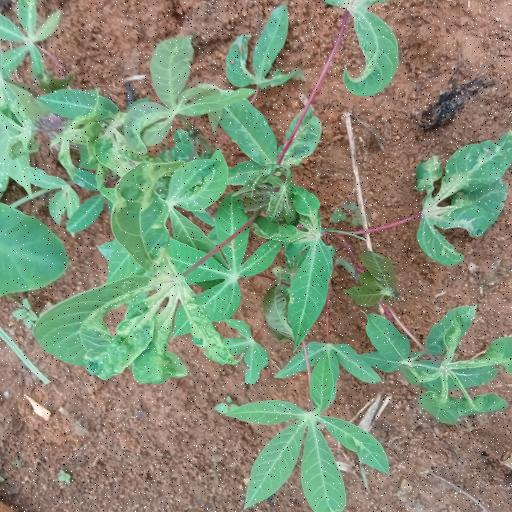Cassava_Mosaic: (41, 154, 219, 388), (227, 360, 382, 511), (120, 33, 243, 148), (384, 315, 512, 420), (414, 140, 512, 263)
